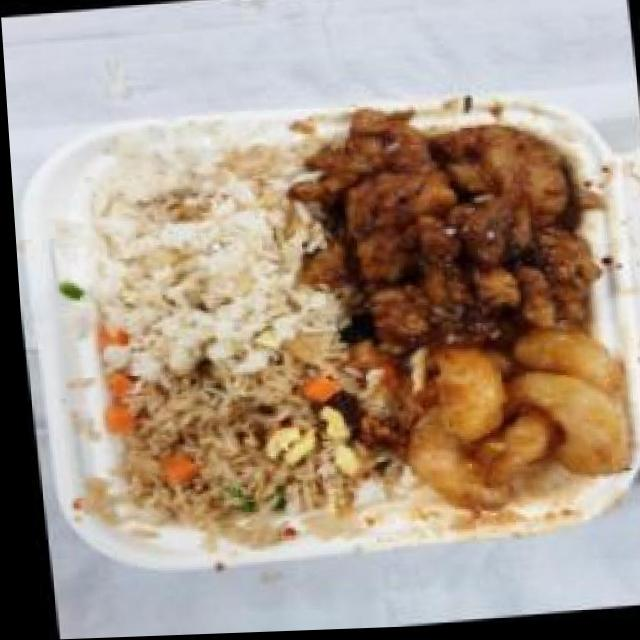Fried Rice: (65, 338, 374, 560)
Honey Walnut Shrimp: (373, 320, 638, 533)
The Original Orange Chicken: (284, 96, 618, 368)
White Steamed Rice: (47, 126, 333, 372)
